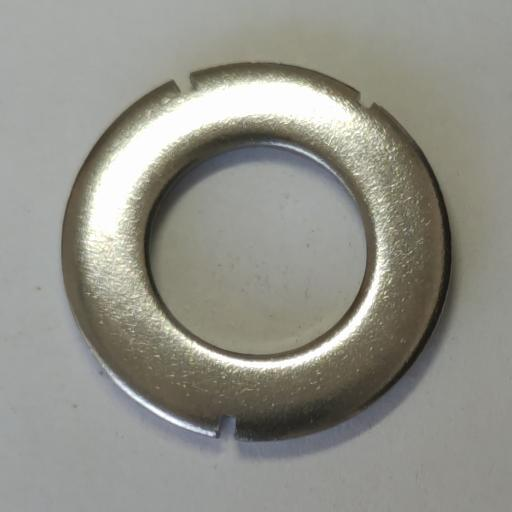burr: (238, 418, 263, 446), (173, 72, 200, 95), (355, 90, 375, 110)
